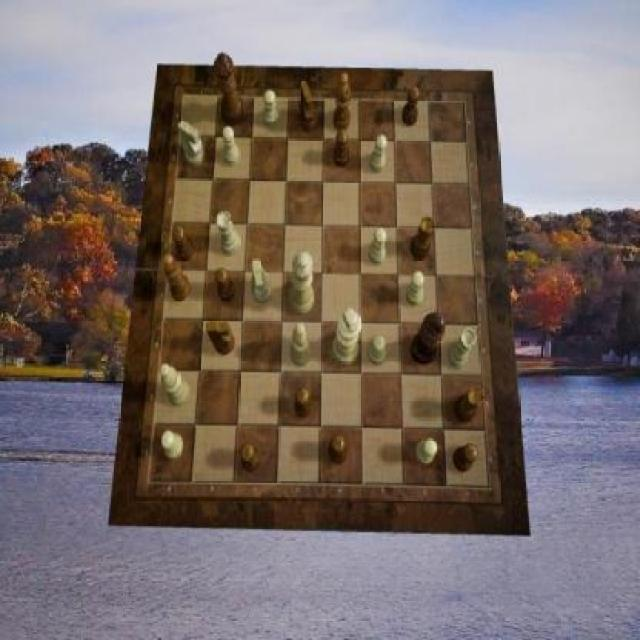bishop: (163, 254, 191, 301), (334, 74, 351, 132)
black-bishop: (410, 310, 446, 364)
black-king: (207, 322, 236, 356), (299, 80, 316, 132)
black-knight: (172, 226, 195, 262), (217, 268, 237, 302), (402, 86, 419, 126), (454, 445, 478, 472), (334, 129, 350, 168), (242, 443, 262, 472), (328, 434, 347, 464), (294, 388, 313, 418)
black-pawn: (213, 54, 244, 128)
black-queen: (411, 216, 437, 260), (454, 386, 484, 424)
black-rook: (160, 363, 191, 405), (290, 322, 312, 366)
white-bishop: (332, 309, 362, 367)
white-king: (180, 121, 206, 167), (252, 258, 273, 304)
white-knight: (368, 226, 387, 264), (369, 135, 387, 174), (222, 126, 239, 166), (263, 89, 280, 127), (406, 271, 424, 305), (162, 431, 184, 458), (416, 438, 438, 464), (368, 334, 385, 364)
white-pawn: (290, 252, 316, 316)
white-queen: (449, 329, 477, 369), (217, 211, 241, 256)
